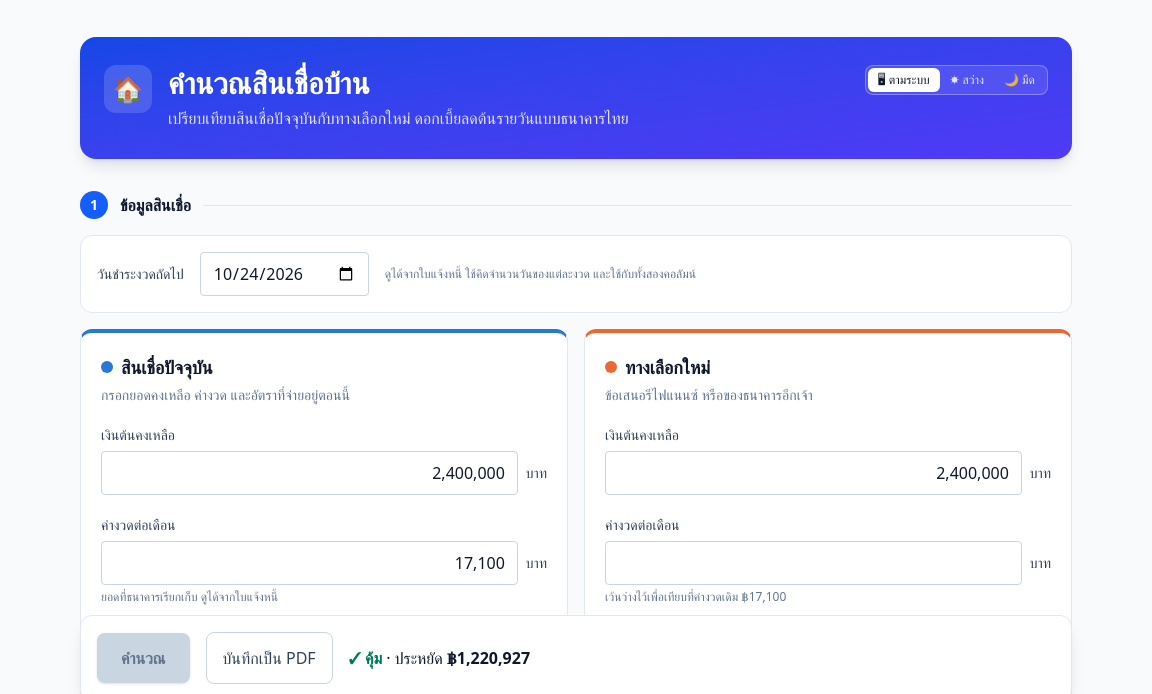
App › refuses to calculate without an instalment
The current loan's field, which is the required one.
Step 1. Clear the field labelled "ค่างวดต่อเดือน บาท ยอดที่ธนาคารเรียกเก็บ ดูได้จากใบแจ้งหนี้" → (309,563), box [101,541,518,585]
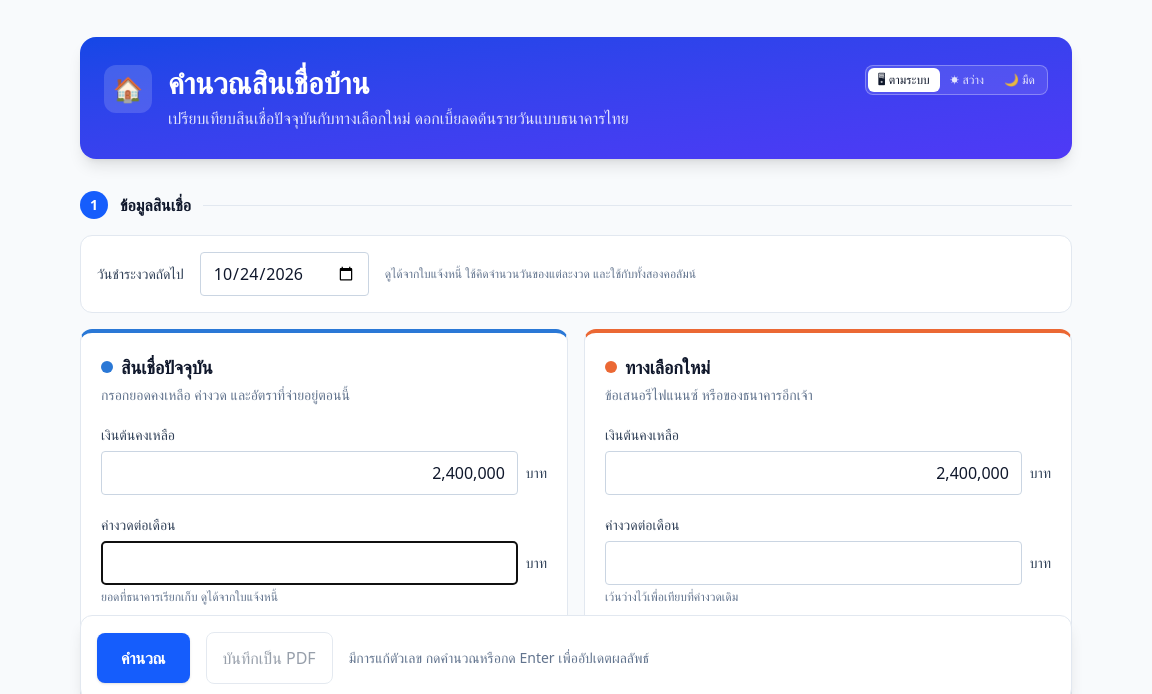
Step 2. Click the button "คำนวณ" → (143,658), box [97,633,190,683]
(page scrolled)
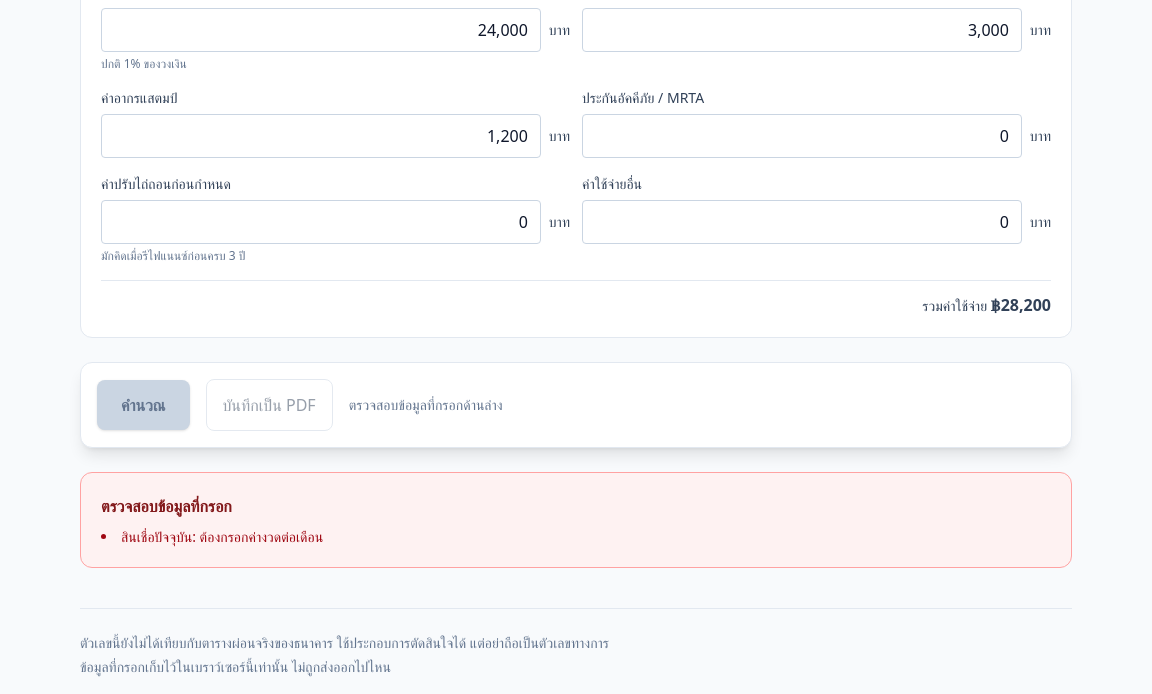
Expected: the list item "สินเชื่อปัจจุบัน: ต้องกรอกค่างวดต่อเดือน" is shown, [121,527,323,546]
